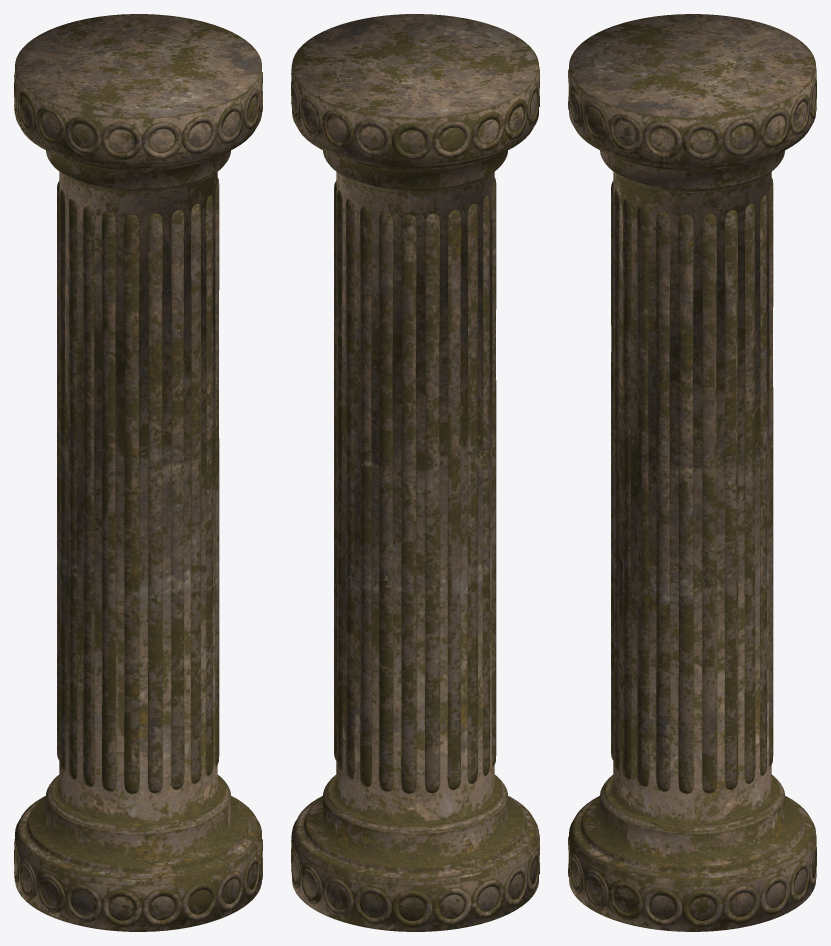
Rendered from heaven-pillar.glb.
The picture shows the model from 3 angles, left to right: view 1: azimuth 30°, elevation 25°; view 2: azimuth 150°, elevation 25°; view 3: azimuth 270°, elevation 25°; orthographic projection.
Visible parts, largest first — view 1: Column_2; view 2: Column_2; view 3: Column_2.
Boxes of the visible parts, box(x1,y1,x2,y2) form: Column_2: box(14, 14, 262, 931); Column_2: box(291, 14, 539, 931); Column_2: box(568, 14, 816, 931).
Bounding box in the file's own units: 2.01 × 7.26 × 2.01.
Materials: 1 (1 with a texture image).
